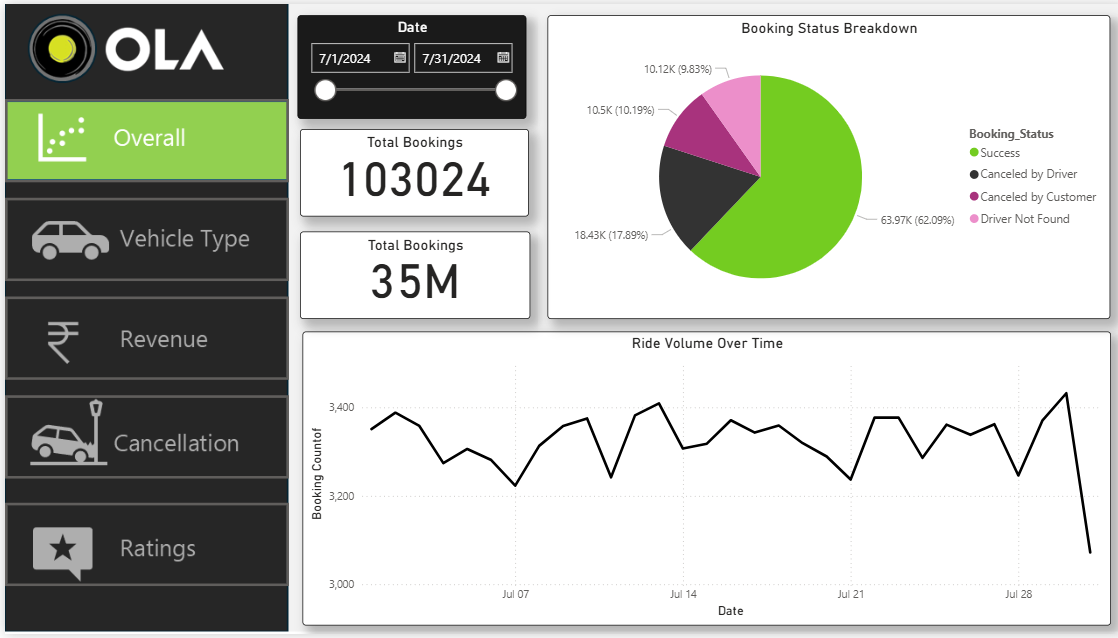

What the dashboard file says about the page in this screenshot:
{"tool":"powerbi","page":{"name":"Overall","canvas":[1280,720],"ordinal":0},"visuals":[{"type":"actionButton","box":[0,108.6,324.5,95.3],"z":0},{"type":"actionButton","box":[0,222,324.5,95.3],"z":1000},{"type":"actionButton","box":[0,334.2,324.5,95.3],"z":2000},{"type":"actionButton","box":[0,447.6,324.5,95.3],"z":3000},{"type":"actionButton","box":[0,569.4,324.5,95.3],"z":4000},{"type":"lineChart","title":"Ride Volume Over Time","fields":{"Y":["CountNonNull(July.Booking_ID)"],"Category":["July.Date"]},"box":[340,374.3,924.3,335.7],"z":5000},{"type":"pieChart","title":"Booking Status Breakdown","fields":{"Y":["CountNonNull(July.Booking_ID)"],"Category":["July.Booking_Status"]},"box":[620,12.9,642.9,347.1],"z":6000},{"type":"slicer","title":"Date","fields":{"Values":["July.Date"]},"box":[335,13.3,261.7,118.3],"z":7000},{"type":"card","title":"Total Bookings","fields":{"Values":["Count(July.Booking_ID)"]},"box":[337.1,142.9,261.4,100],"z":8000},{"type":"card","title":"Total Bookings","fields":{"Values":["Sum(July.Booking_Value)"]},"box":[337.1,260,262.9,100],"z":9000}]}

Visuals, with their boxes in screenshot pixels (x1, y1, x2, y2), scaled from the page's 1280x720 canvas onto the 1118x638 screenshot:
actionButton: 0,96,283,181
actionButton: 0,197,283,281
actionButton: 0,296,283,381
actionButton: 0,397,283,481
actionButton: 0,505,283,589
"Ride Volume Over Time" lineChart: 297,332,1104,629
"Booking Status Breakdown" pieChart: 542,11,1103,319
"Date" slicer: 293,12,521,117
"Total Bookings" card: 294,127,523,215
"Total Bookings" card: 294,230,524,319
